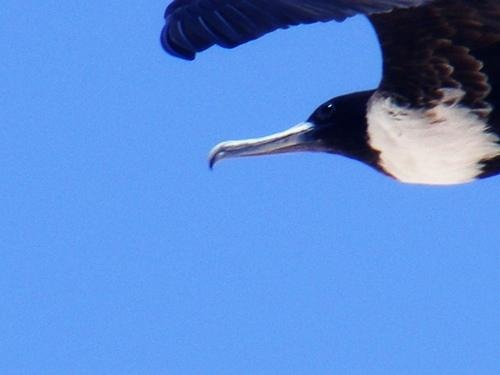bird: (157, 1, 500, 183)
